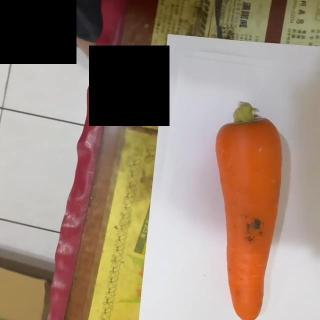carrot: (214, 100, 283, 320)
